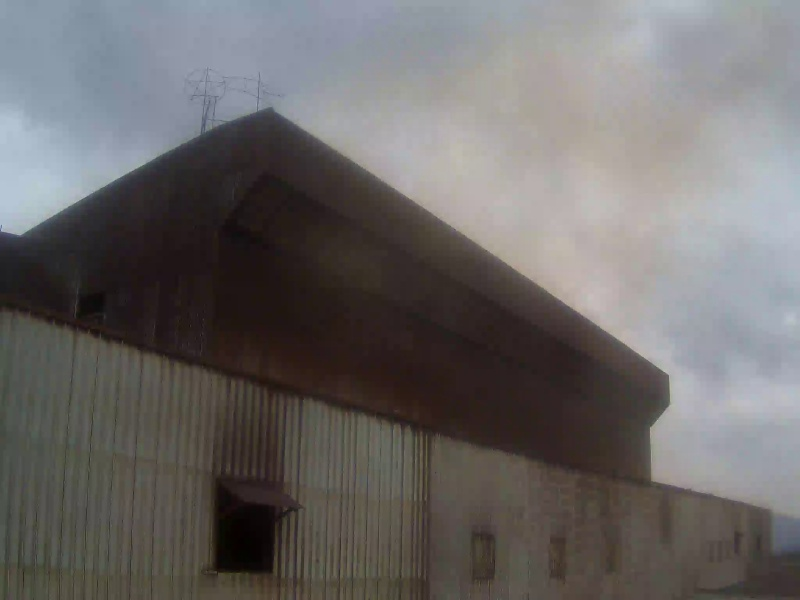Ruim: (318, 3, 723, 340)
